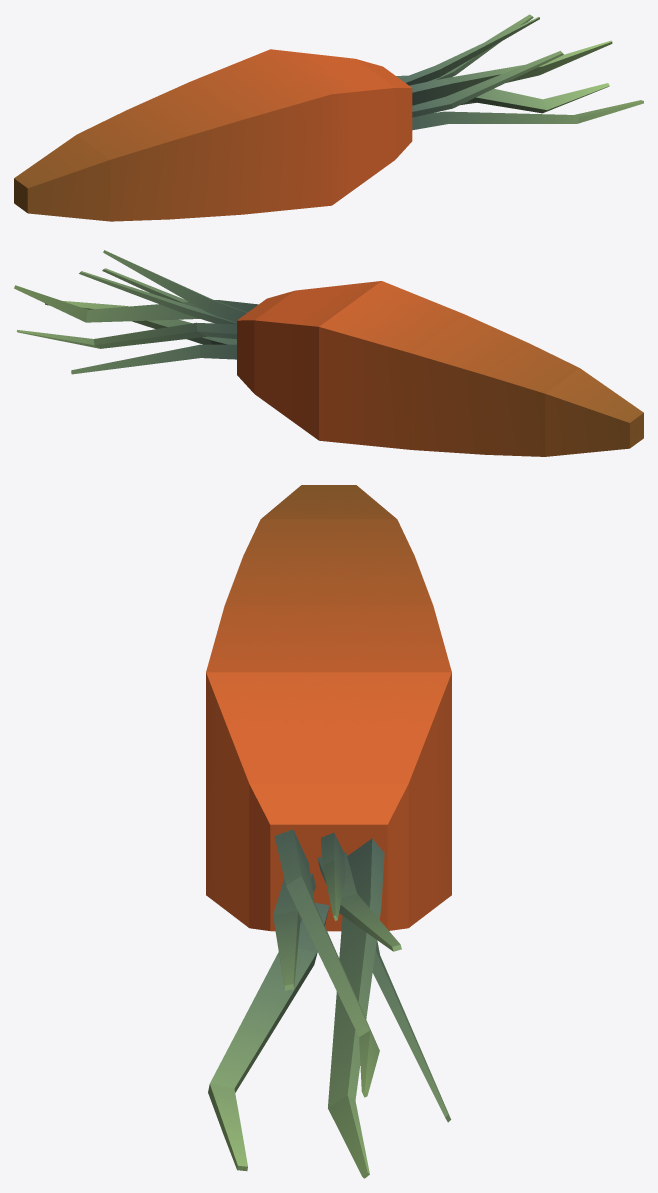
File: ItemPropsCarrot.fbx
The picture shows the model from 3 angles, top to bottom: view 1: azimuth 30°, elevation 25°; view 2: azimuth 150°, elevation 25°; view 3: azimuth 270°, elevation 25°; orthographic projection. The views are drawn at different scales.
Parts seen in each view (by area): view 1: Cube.006; view 2: Cube.006; view 3: Cube.006.
Part boxes in pixels (box(x1,y1,x2,y2)): Cube.006: box(14, 14, 643, 221); Cube.006: box(14, 250, 643, 456); Cube.006: box(206, 485, 451, 1178).
Bounding box in the file's own units: 79.1 × 14.03 × 14.03.
